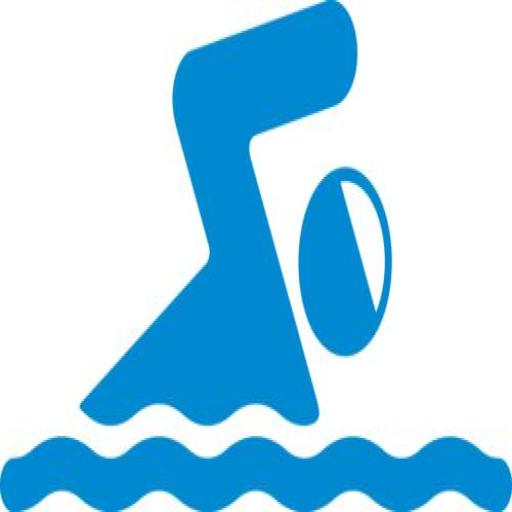swimming: (0, 0, 509, 510)
